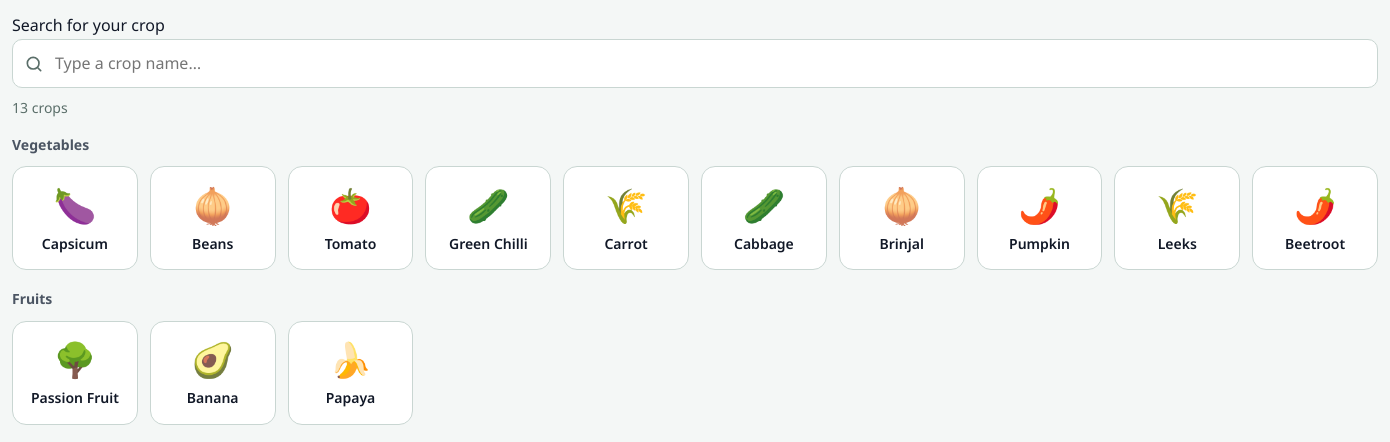
Scenario: CropPicker › filters the grid by the search box and updates the count
Type "tomato" into the search field at (695, 64), box [12,39,1378,88]
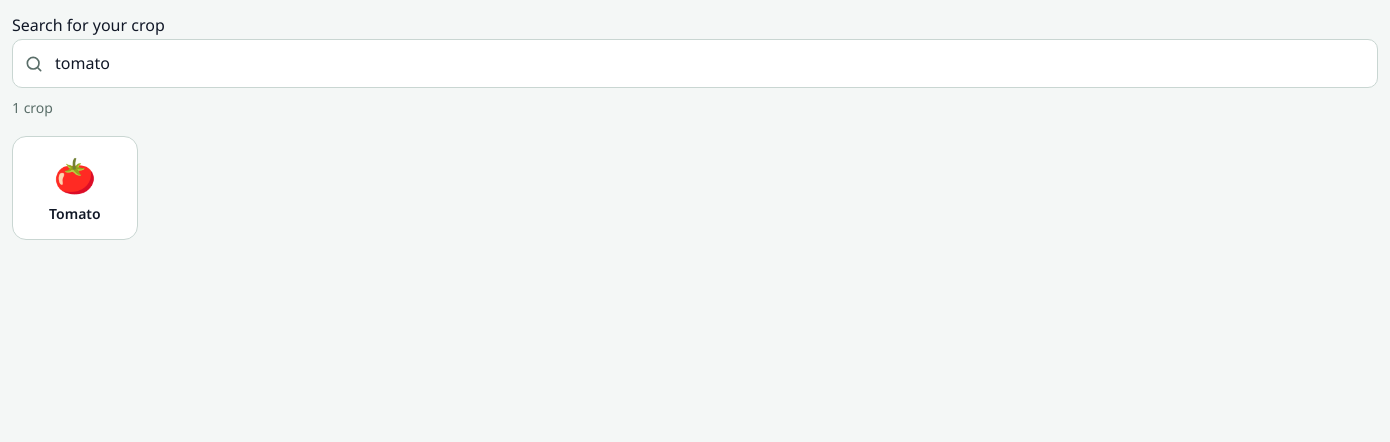
expect the button "🍅 Tomato" is shown: met, box [12,136,138,240]
expect the message reads "1 crop": met, box [12,98,53,117]
expect the button "Banana" is gone: met
